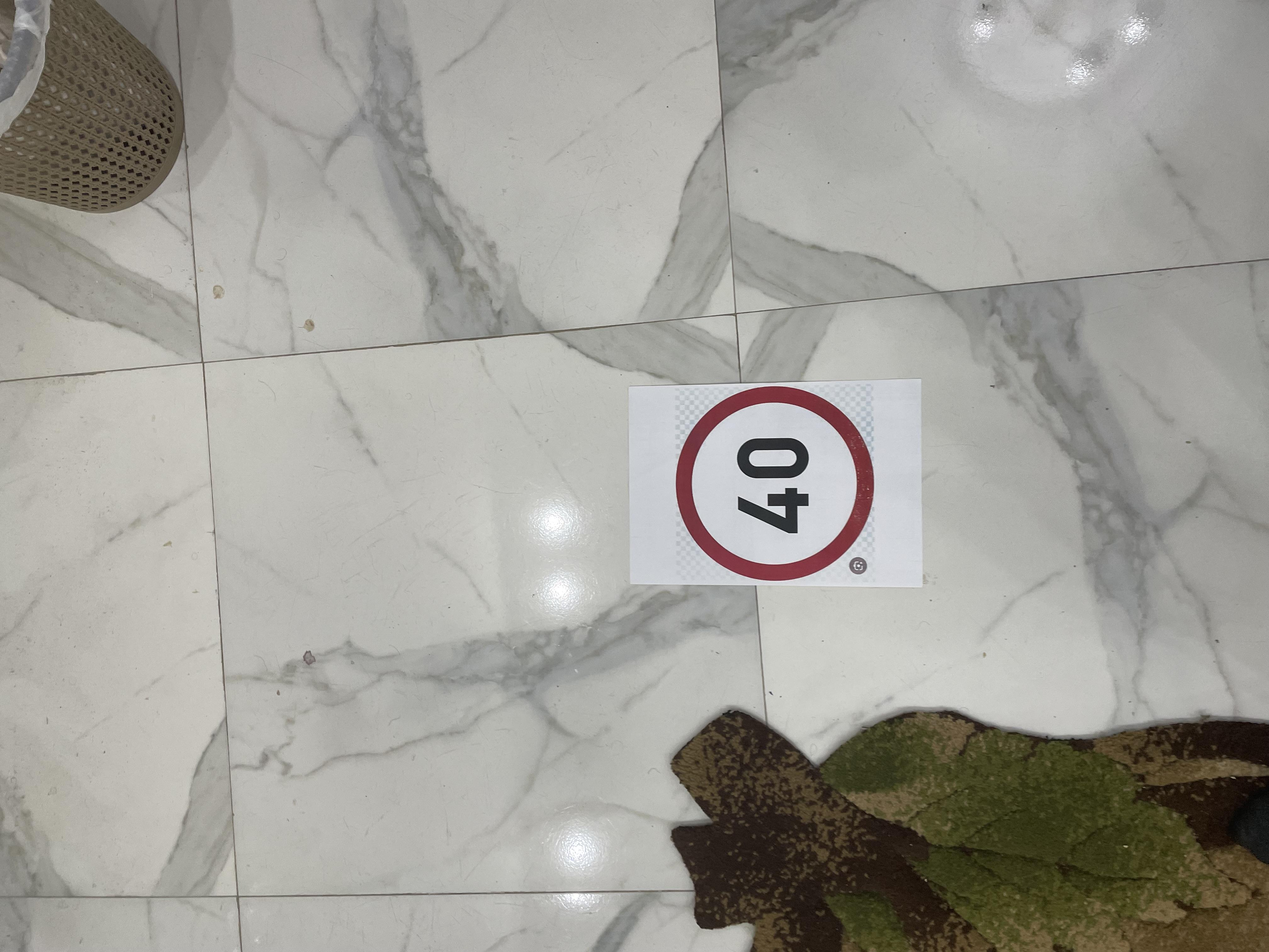40-Speed: (479, 499, 781, 659)
